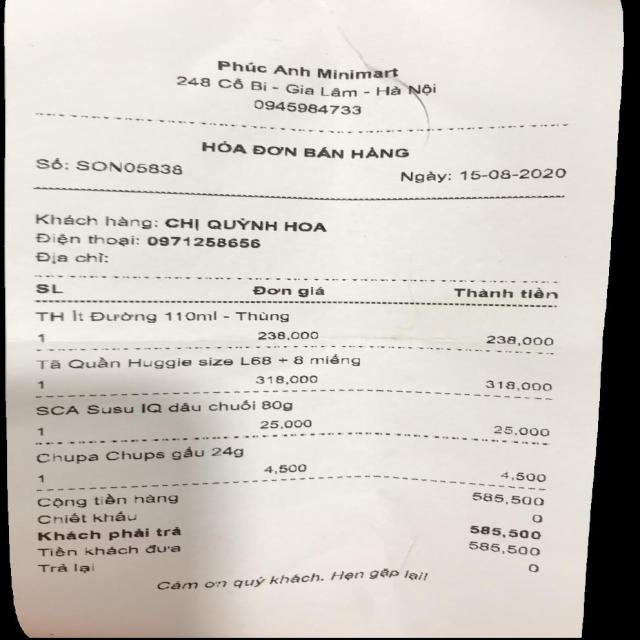Date: (461, 167, 573, 180)
Store_Name: (204, 54, 414, 82)
amount_number: (464, 489, 557, 509)
label_total: (30, 492, 185, 508)
